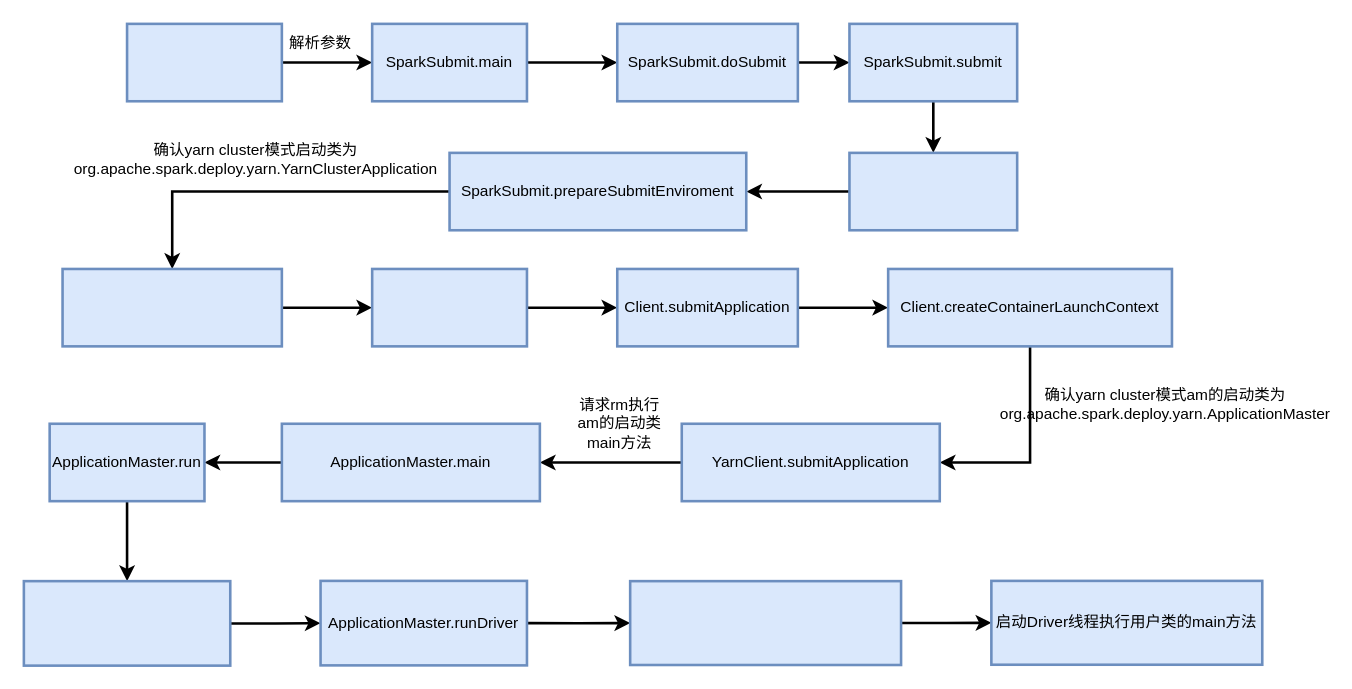
This 1352x689 diagram has some shape labels left out. Here are the shapes that lost their labels. From the top down, the box of each, then its label:
(125, 22, 283, 102): 执行spark-submit命令
(848, 151, 1018, 231): SparkSubmit.runMain
(61, 267, 283, 347): YarnClusterApplication.start
(370, 267, 528, 347): Client.run
(22, 579, 231, 666): ApplicationMaster.runImpl
(628, 579, 902, 666): ApplicationMaster.startUserApplication
